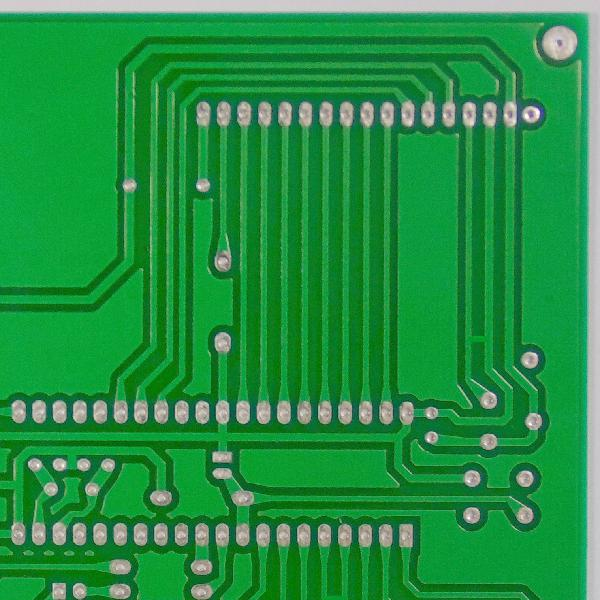short: (464, 326, 493, 348)
